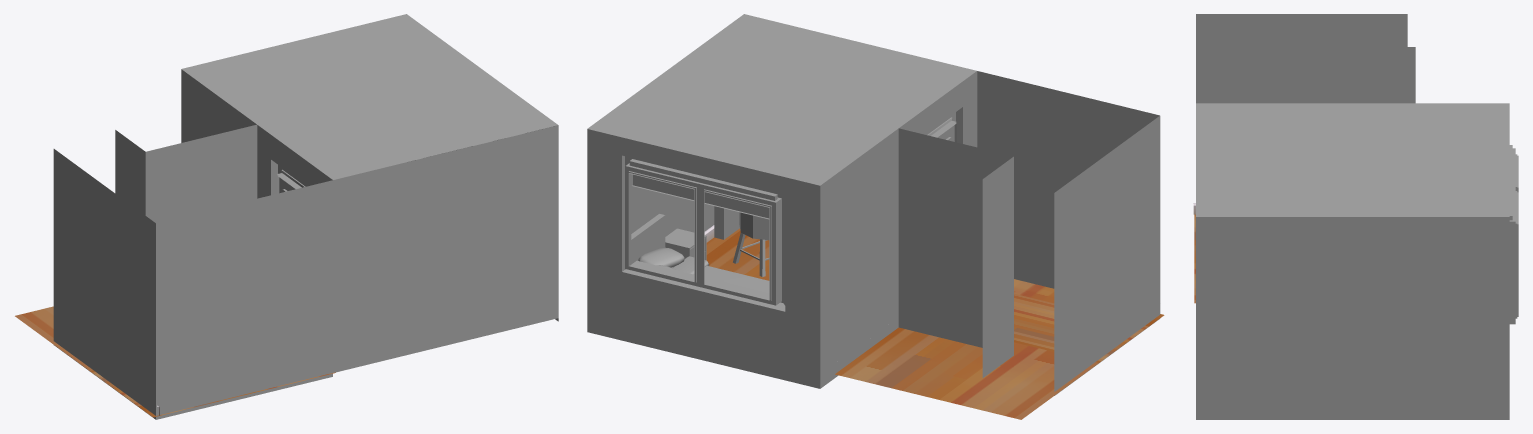
File: Room_FIN.fbx
The picture shows the model from 3 angles, left to right: view 1: azimuth 30°, elevation 25°; view 2: azimuth 150°, elevation 25°; view 3: azimuth 270°, elevation 25°; orthographic projection. The views are drawn at different scales.
Visible parts, largest first — view 1: Door_Wall, Plain_Wall02, Ceiling, Floor; view 2: Door_Wall, Window_Wall, Ceiling, Floor, Plain_Wall, Blinds, Chair, Bed_Frame, Mattress, Bedside_Table, Desk, Pillow_2; view 3: Plain_Wall, Ceiling, Door_Wall, Window_Wall.
Boxes of the visible parts, x1,y1,x2,y2 form: Door_Wall: [53, 69, 332, 419]; Plain_Wall02: [333, 125, 558, 372]; Ceiling: [181, 14, 558, 179]; Floor: [15, 306, 335, 417]; Door_Wall: [820, 71, 1160, 395]; Window_Wall: [587, 129, 820, 388]; Ceiling: [587, 14, 976, 185]; Floor: [704, 225, 1164, 419]; Plain_Wall: [631, 174, 714, 236]; Blinds: [631, 174, 775, 219]; Chair: [733, 212, 769, 276]; Bed_Frame: [631, 214, 665, 264]; Mattress: [671, 256, 769, 292]; Bedside_Table: [665, 228, 706, 260]; Desk: [714, 206, 739, 239]; Pillow_2: [638, 247, 684, 267]; Plain_Wall: [1196, 217, 1509, 419]; Ceiling: [1196, 103, 1509, 216]; Door_Wall: [1196, 14, 1415, 103]; Window_Wall: [1509, 145, 1518, 324].
Size of the model in its own units: 5.4 by 2.5 by 3.63.
9 materials, 1 textured.
